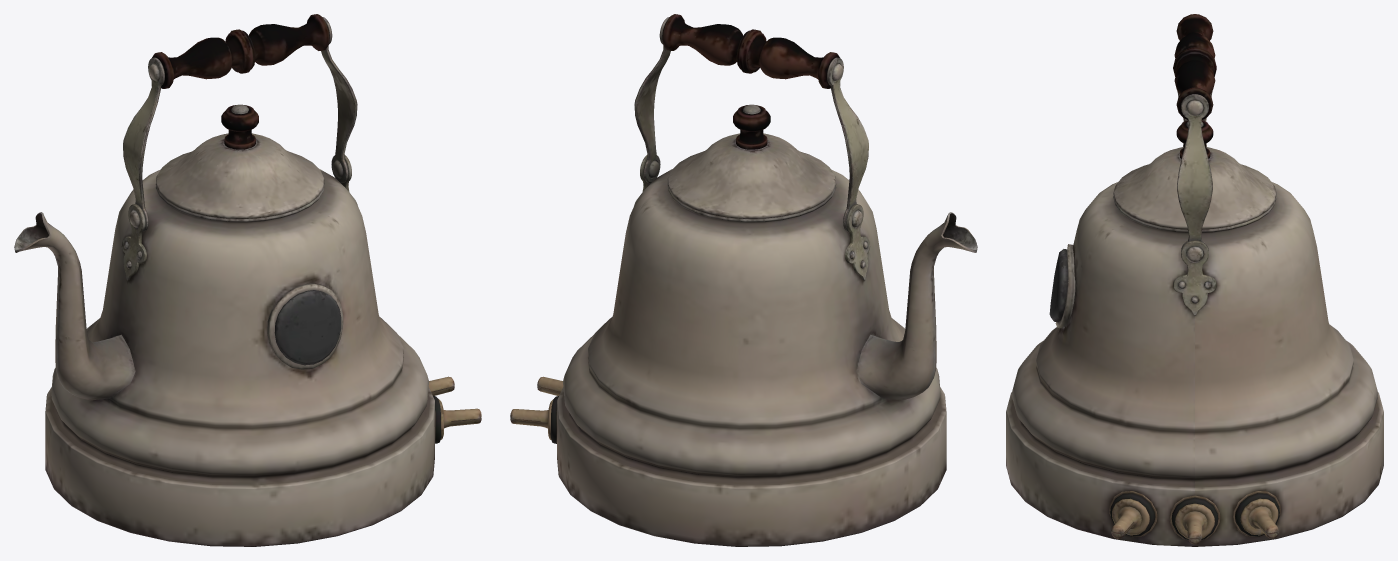
Rendered from vintage_electric_kettle.glb.
3 views of the same model, side by side, from view 1: azimuth 30°, elevation 25°; view 2: azimuth 150°, elevation 25°; view 3: azimuth 270°, elevation 25° (orthographic). The views are drawn at different scales.
Parts seen in each view (by area): view 1: vintage_electric_kettle; view 2: vintage_electric_kettle; view 3: vintage_electric_kettle.
Boxes of the visible parts, x1=… form: vintage_electric_kettle: x1=14, y1=14, x2=481, y2=546; vintage_electric_kettle: x1=510, y1=14, x2=977, y2=546; vintage_electric_kettle: x1=1006, y1=14, x2=1383, y2=546.
Bounding box in the file's own units: 0.3209 × 0.3048 × 0.2486.
Materials: 2 (2 with a texture image).
